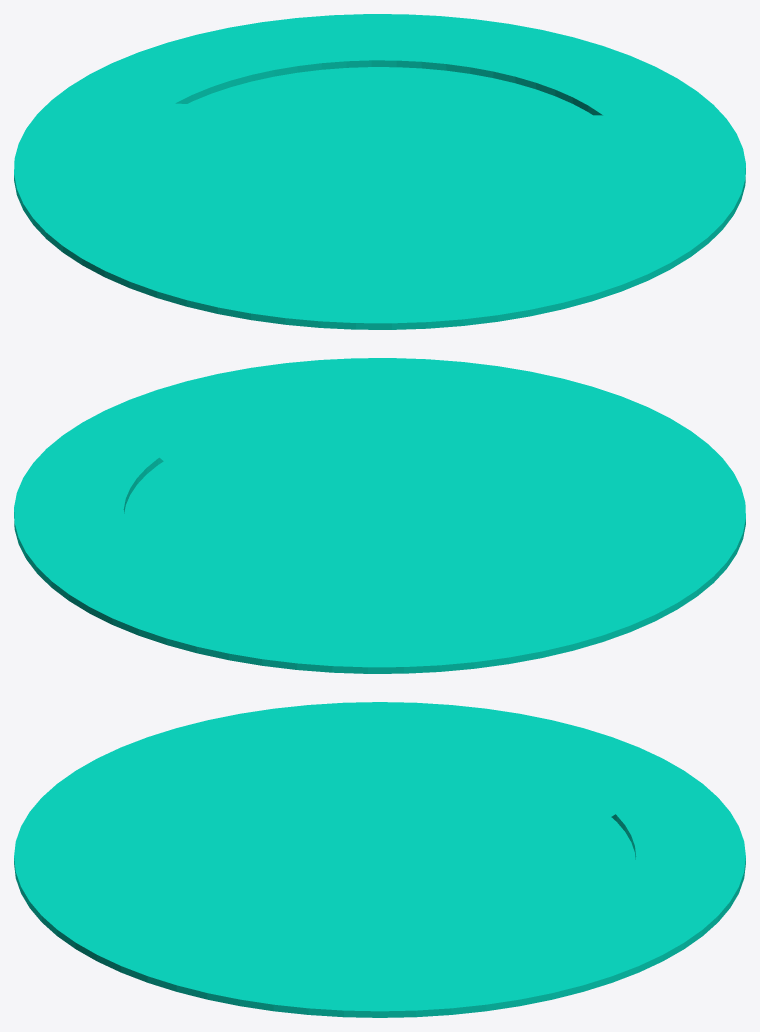
The model's file is SelectionRing.fbx.
The picture shows the model from 3 angles, top to bottom: view 1: azimuth 30°, elevation 25°; view 2: azimuth 150°, elevation 25°; view 3: azimuth 270°, elevation 25°; orthographic projection.
Visible parts, largest first — view 1: SelectionRing; view 2: SelectionRing; view 3: SelectionRing.
Boxes of the visible parts, x1,y1,x2,y2 form: SelectionRing: [14, 14, 745, 329]; SelectionRing: [14, 358, 745, 673]; SelectionRing: [14, 702, 745, 1017].
Size of the model in its own units: 100 by 1 by 100.
